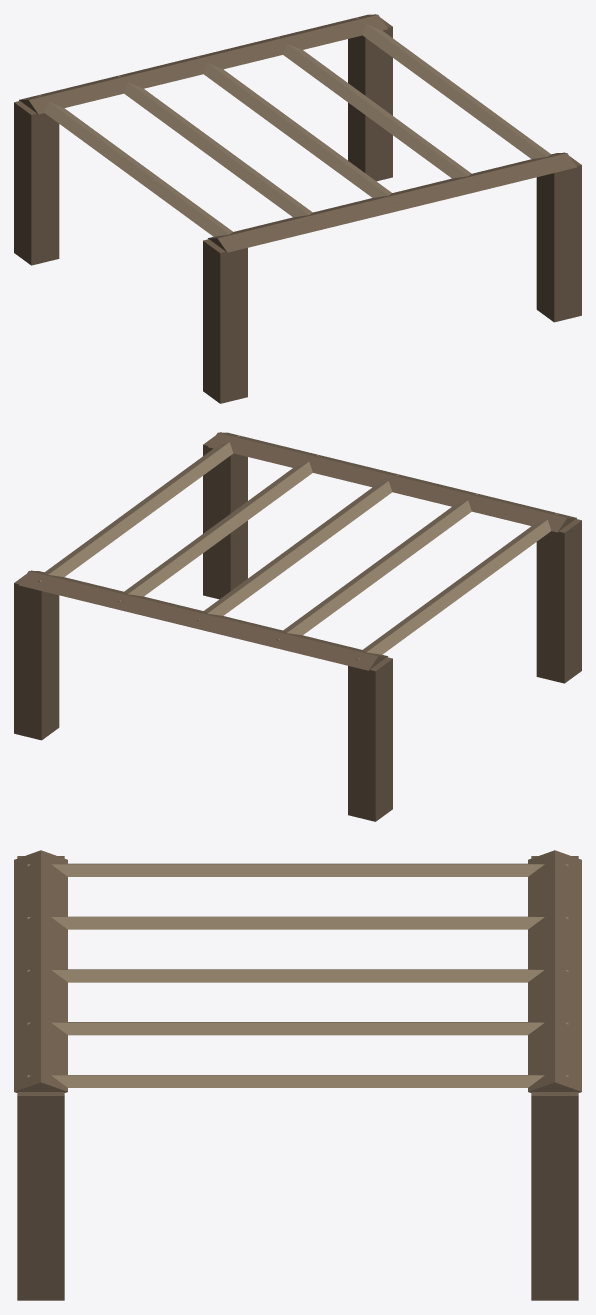
Rendered from training_frame.glb.
3 views of the same model, one above another, from view 1: azimuth 30°, elevation 25°; view 2: azimuth 150°, elevation 25°; view 3: azimuth 270°, elevation 25° (orthographic). The views are drawn at different scales.
Visible parts, largest first — view 1: training_frame; view 2: training_frame; view 3: training_frame.
Part boxes in pixels (box(x1,y1,x2,y2)): training_frame: box(14, 14, 581, 403); training_frame: box(14, 432, 581, 821); training_frame: box(14, 850, 581, 1300).
Bounding box in the file's own units: 2.88 × 1.2 × 2.88.
